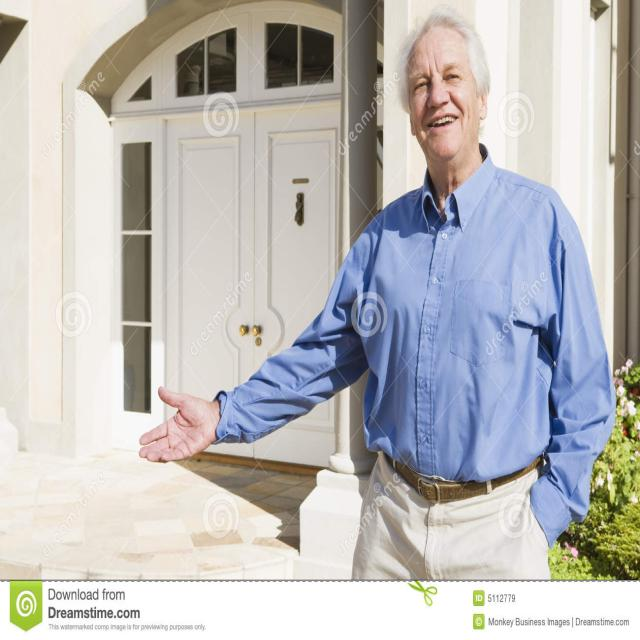stand: (329, 5, 556, 586)
